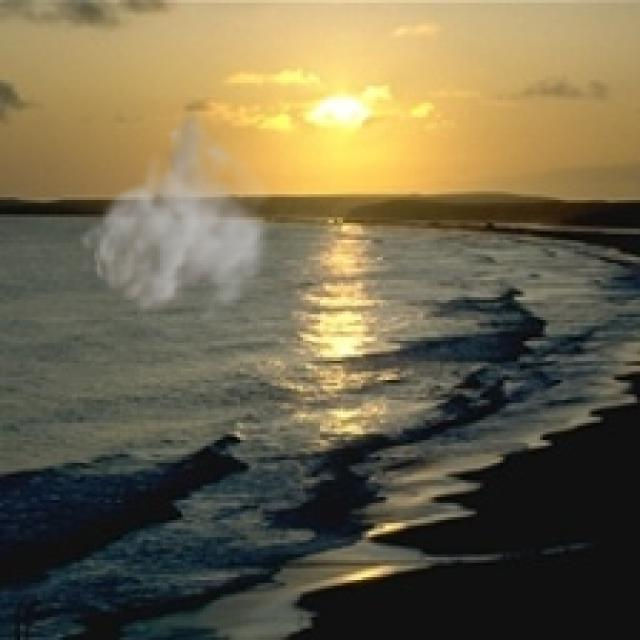smoke: (77, 103, 277, 334)
